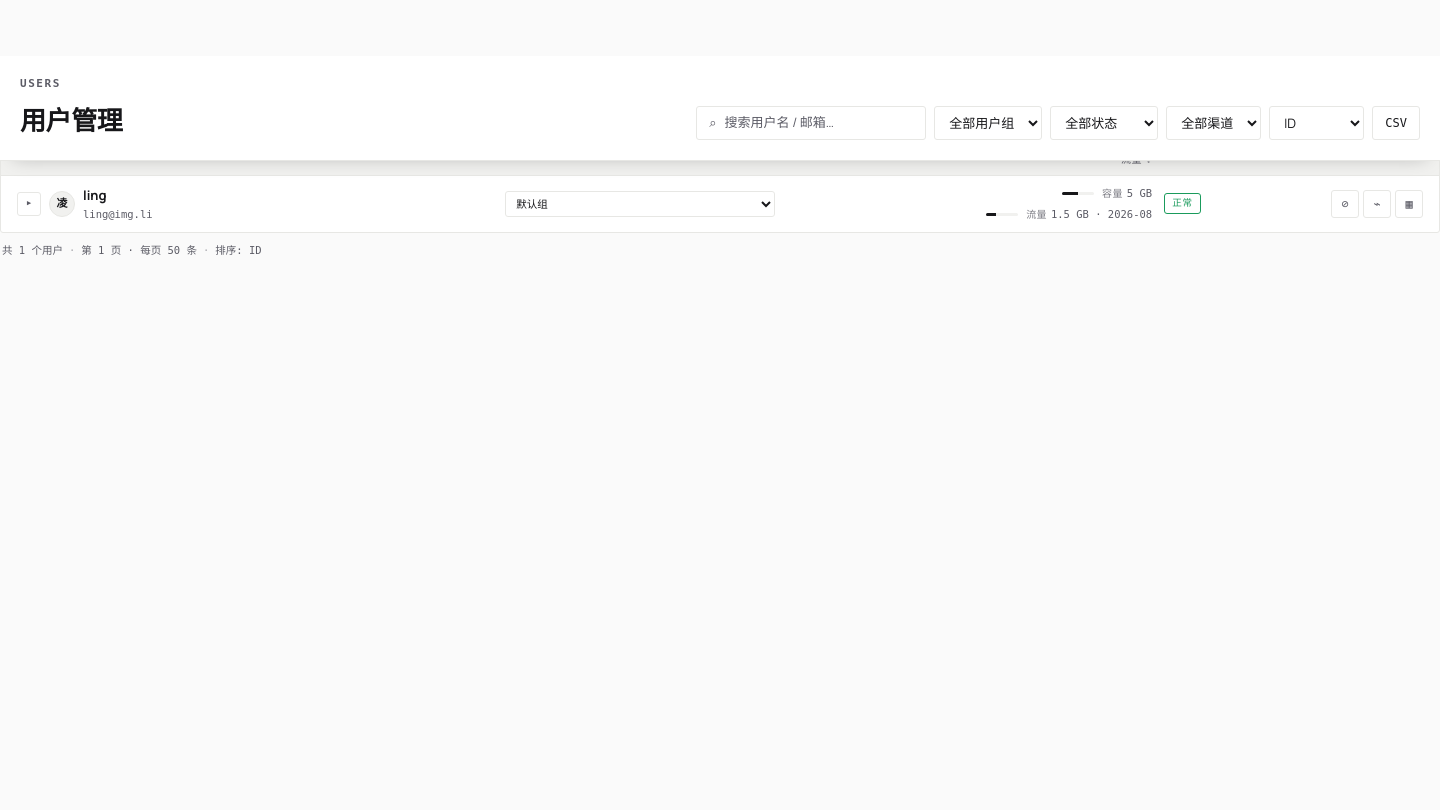
Test: 重置密码:图标武装后开 Modal 再确认
Expected: the text "ling" is shown, [83,186,106,204]
Click the button named "重置密码" at (1377,204), box [1363,190,1391,218]
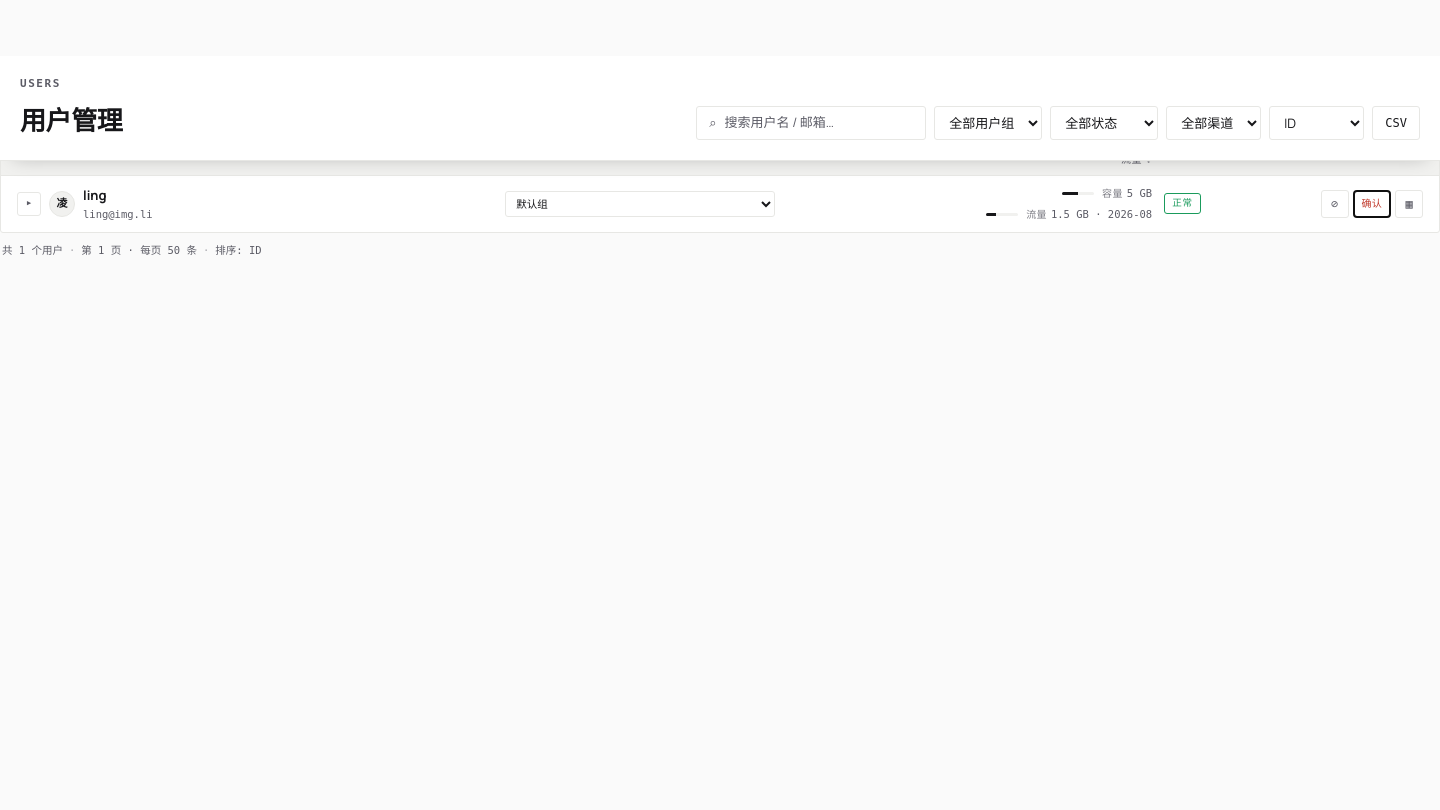
Click the button "确认" at (1372,204), box [1353,190,1391,218]
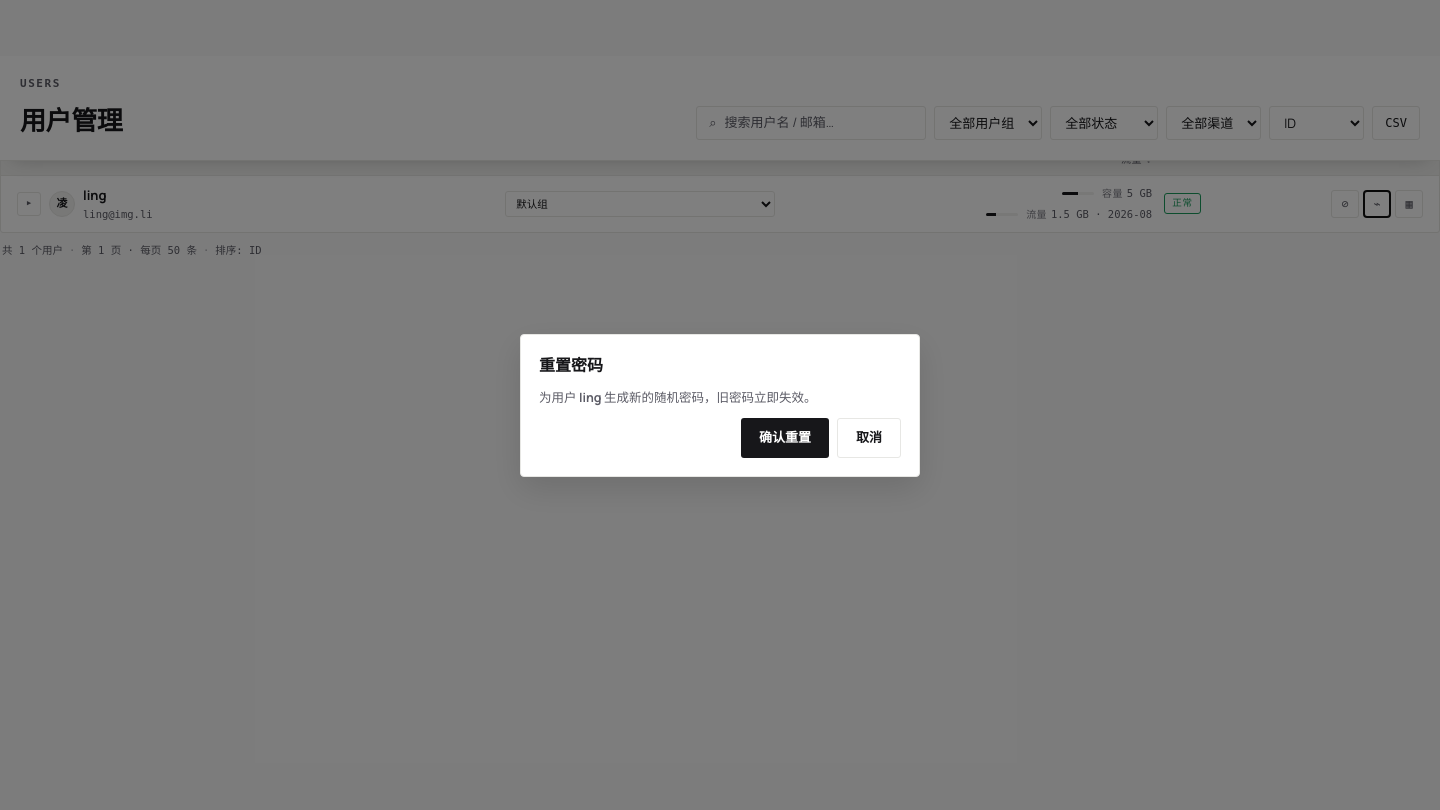
Click the button "确认重置" at (785,438), box [741,418,829,458]
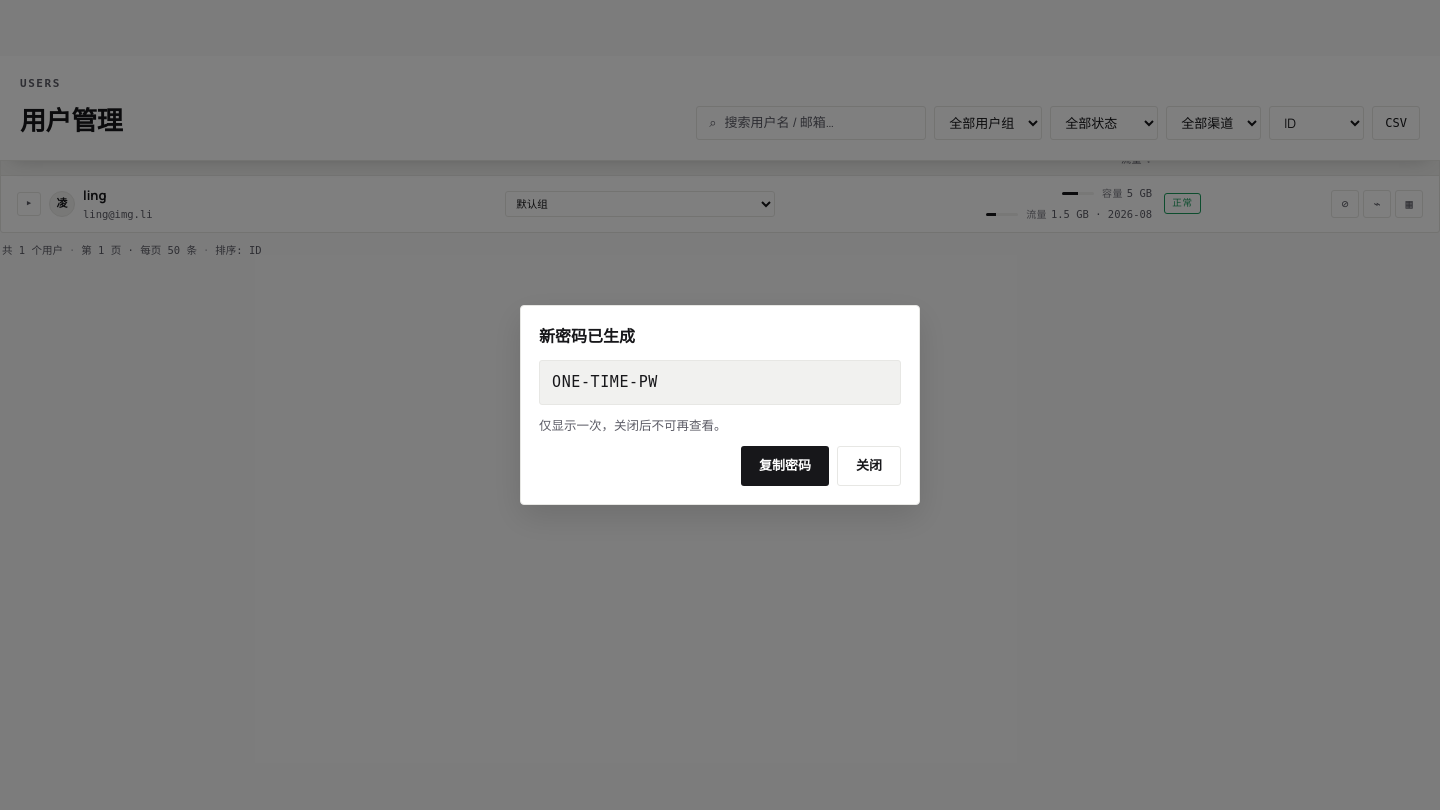
Expected: the text "ONE-TIME-PW" is shown, [539,360,901,405]
Expected: the text "仅显示一次，关闭后不可再查看。" is shown, [539,417,726,434]
